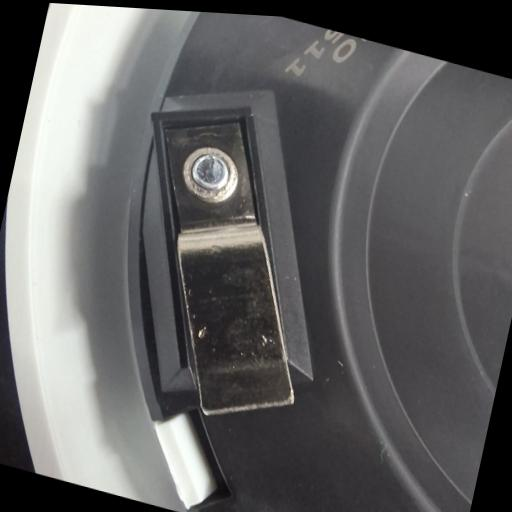yaysiz: (102, 93, 364, 461)
